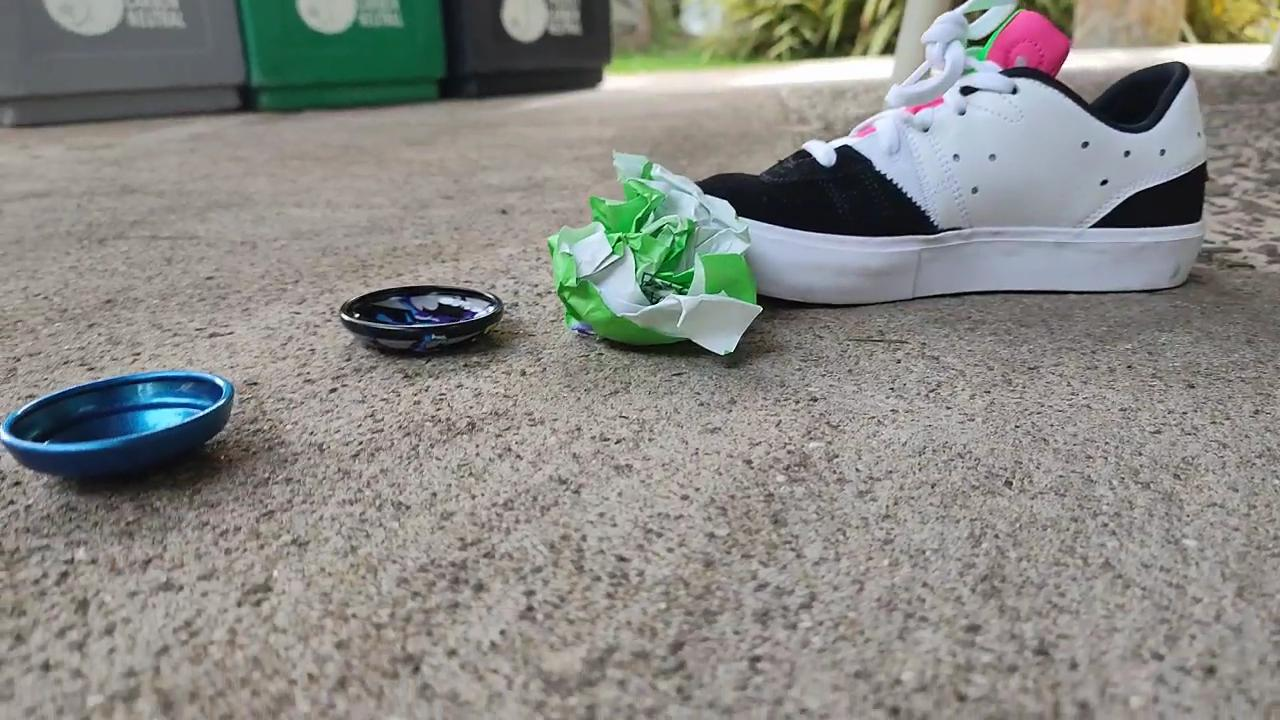Paper: (536, 139, 765, 360)
